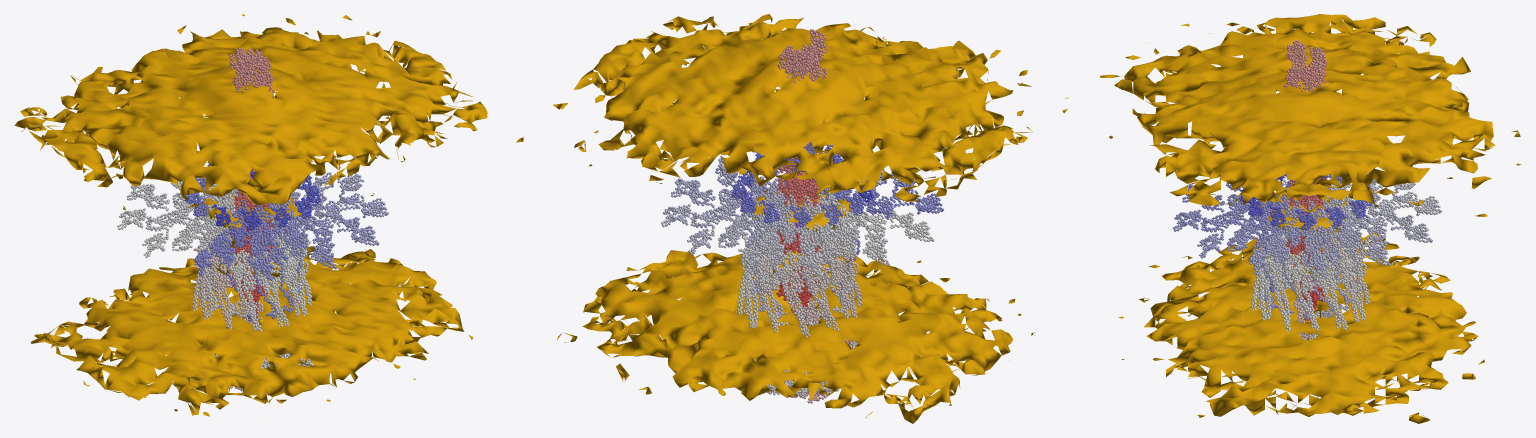
The model's file is full.glb.
3 renders of one model, left to right at view 1: azimuth 30°, elevation 25°; view 2: azimuth 150°, elevation 25°; view 3: azimuth 270°, elevation 25°, orthographic. The views are drawn at different scales.
Parts seen in each view (by area): view 1: vmd_mol3_rep0, vmd_mol2_rep0; view 2: vmd_mol3_rep0, vmd_mol2_rep0; view 3: vmd_mol3_rep0, vmd_mol2_rep0.
Part boxes in pixels (x1=…): vmd_mol3_rep0: x1=14, y1=14, x2=487, y2=416; vmd_mol2_rep0: x1=117, y1=47, x2=388, y2=395; vmd_mol3_rep0: x1=516, y1=14, x2=1068, y2=423; vmd_mol2_rep0: x1=661, y1=29, x2=943, y2=403; vmd_mol3_rep0: x1=1100, y1=14, x2=1521, y2=423; vmd_mol2_rep0: x1=1172, y1=40, x2=1442, y2=397.
Bounding box in the file's own units: 2.51 × 2.22 × 2.47.
